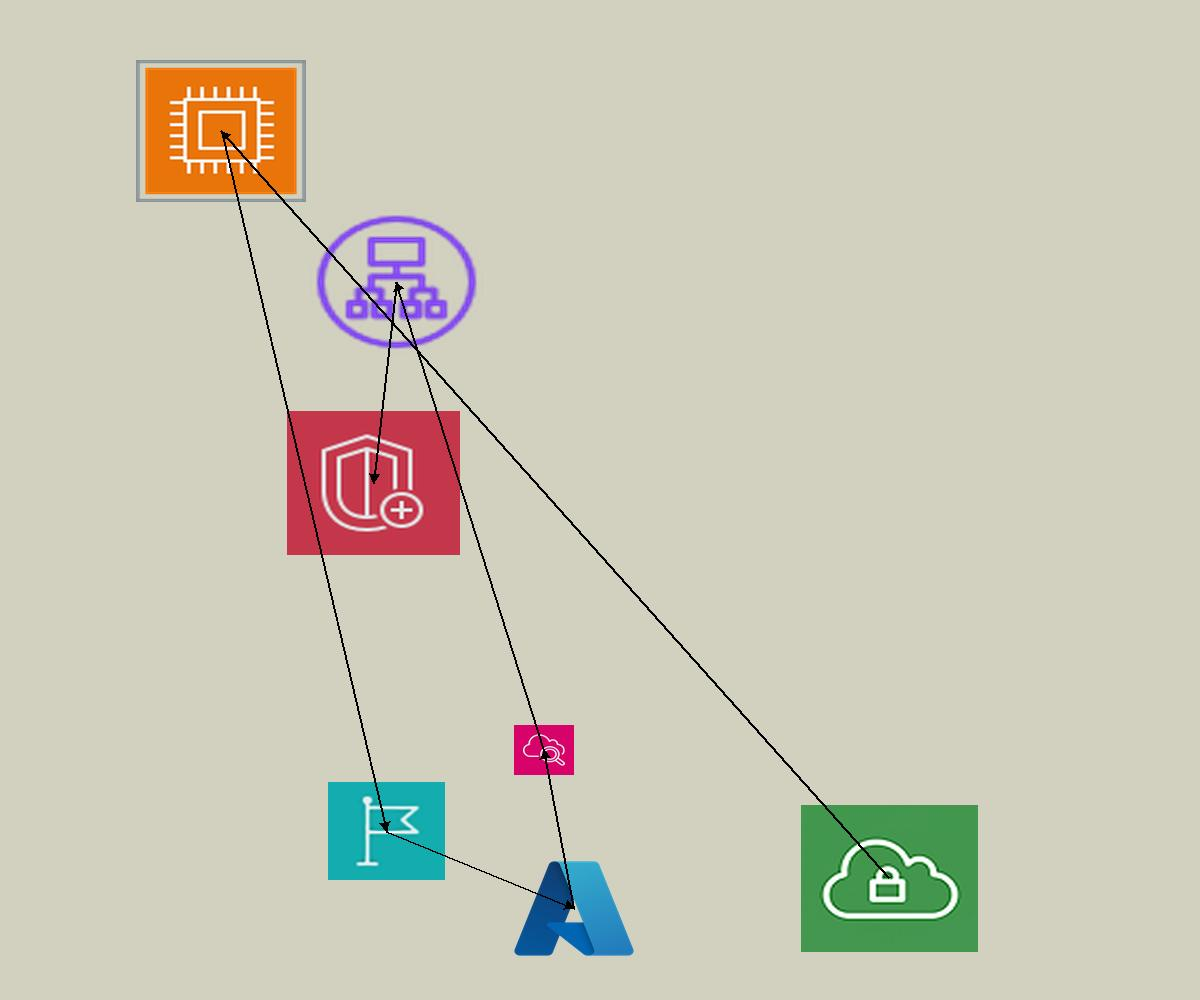AWS-Category_Compute: (136, 60, 306, 202)
AWS-CloudWatch: (514, 725, 574, 775)
AWS-Private_vpc: (801, 805, 978, 952)
AWS-Region: (328, 782, 445, 880)
AWS-Res_Elastic-Load-Balancing_Application-Load-Balancer: (310, 210, 483, 354)
AWS-Shield: (287, 411, 460, 555)
Azure_services: (509, 854, 639, 963)
